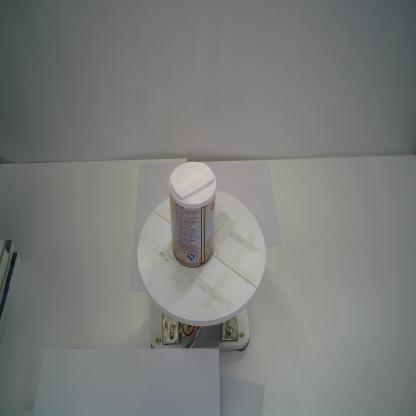Canned Food: (167, 159, 218, 270)
